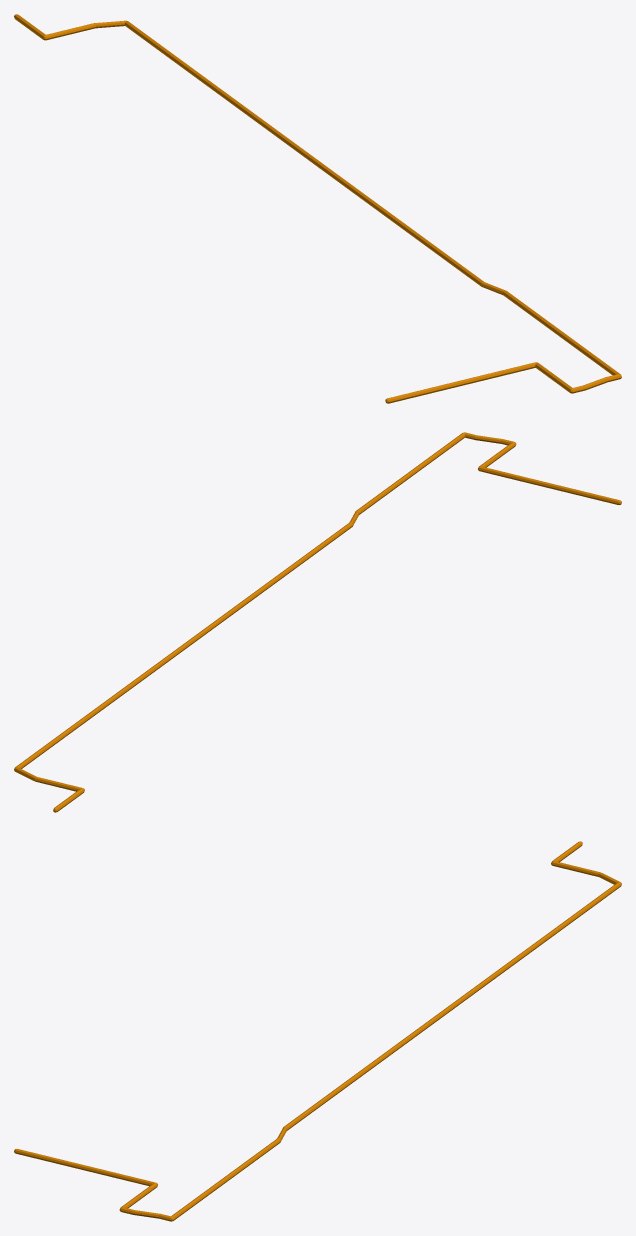
3 views of the same model, one above another, from view 1: azimuth 30°, elevation 25°; view 2: azimuth 150°, elevation 25°; view 3: azimuth 330°, elevation 25° (orthographic). The views are drawn at different scales.
Bounding box in the file's own units: 822 × 20 × 3678.
